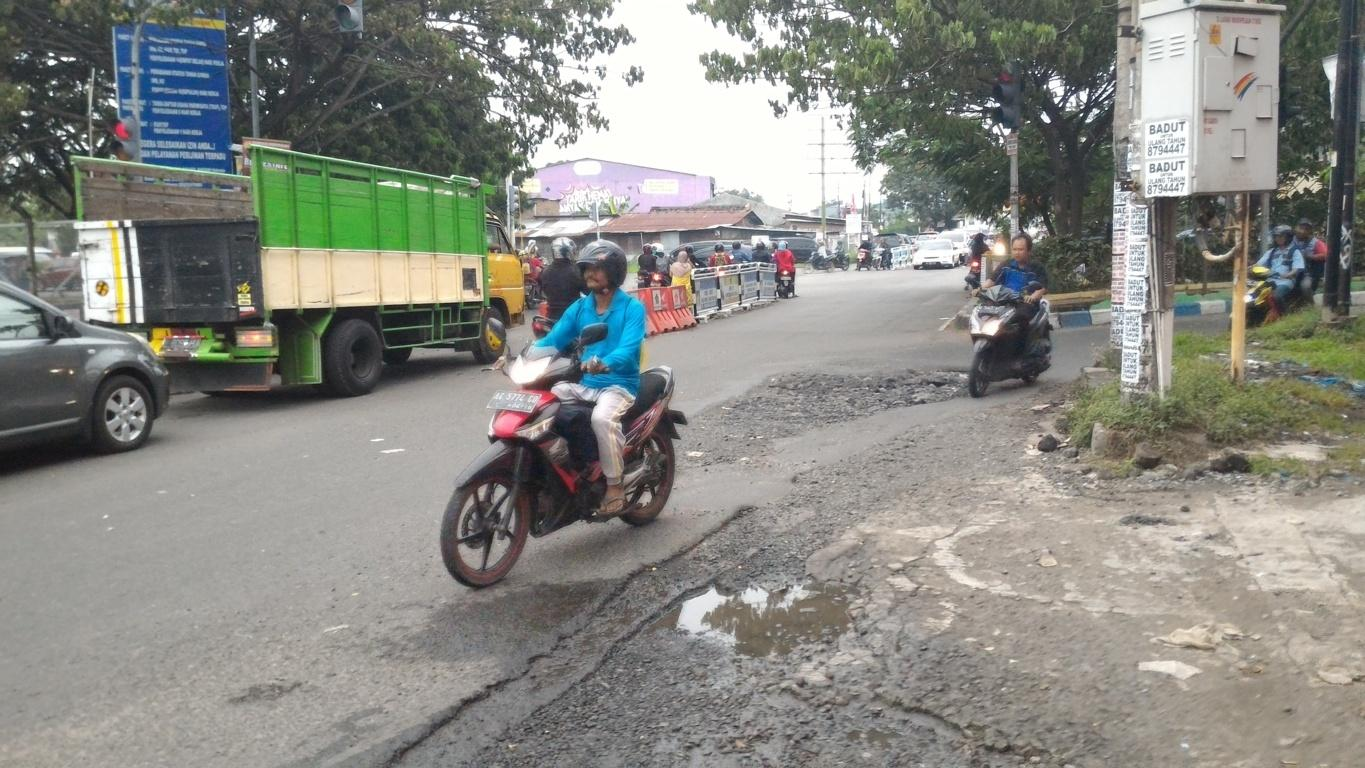Pothole: (588, 533, 870, 658)
